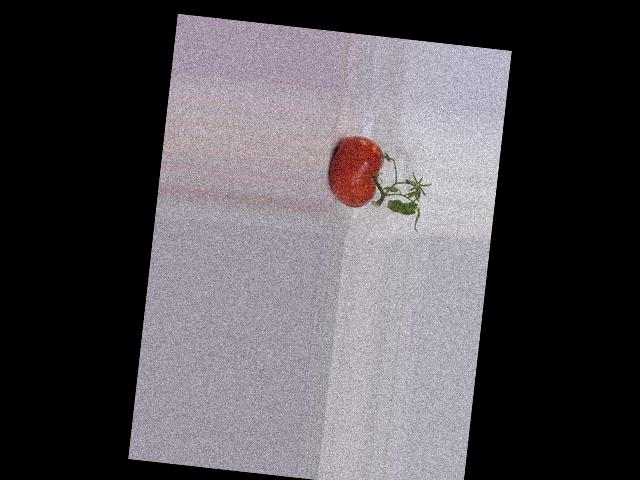tomato: (325, 133, 385, 210)
